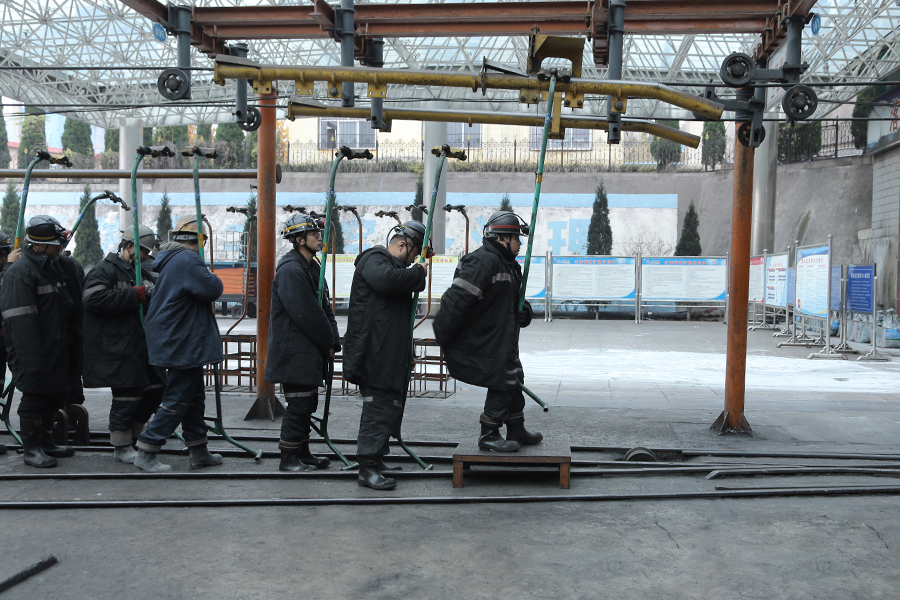helmet: (476, 199, 525, 259), (274, 210, 330, 258)
